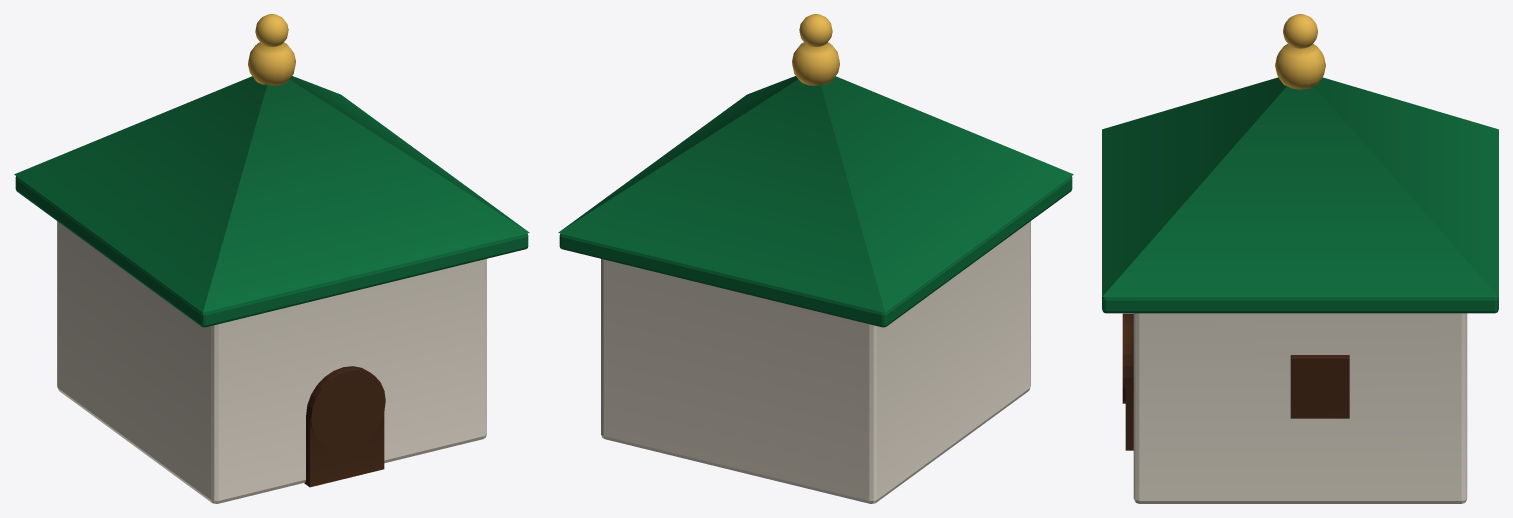
The model's file is dar.glb.
The picture shows the model from 3 angles, left to right: view 1: azimuth 30°, elevation 25°; view 2: azimuth 150°, elevation 25°; view 3: azimuth 270°, elevation 25°; orthographic projection. The views are drawn at different scales.
Visible parts, largest first — view 1: Walls; view 2: Walls; view 3: Walls.
Part boxes in pixels (left/top/right/bottom): Walls: left=14, top=14, right=529, bottom=503; Walls: left=558, top=14, right=1073, bottom=503; Walls: left=1102, top=14, right=1498, bottom=503.
Bounding box in the file's own units: 2.02 × 2.36 × 2.02.
